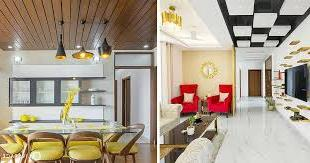TV: (284, 65, 307, 102)
chair: (107, 124, 147, 163), (26, 132, 67, 163), (64, 130, 102, 163), (170, 82, 199, 117), (207, 83, 233, 116), (0, 135, 22, 163), (9, 128, 31, 146)
clock: (197, 59, 220, 80)
door: (248, 69, 262, 97), (123, 79, 131, 125), (114, 81, 117, 121)
light: (95, 12, 117, 61), (71, 17, 93, 63), (160, 4, 184, 35), (55, 17, 67, 60), (73, 42, 83, 52), (4, 43, 15, 52), (12, 56, 23, 65), (144, 44, 150, 50)
sofa: (156, 103, 184, 134)
table: (0, 120, 138, 163), (159, 110, 219, 149), (199, 99, 212, 115)
